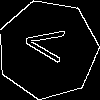V: (23, 24, 75, 65)
